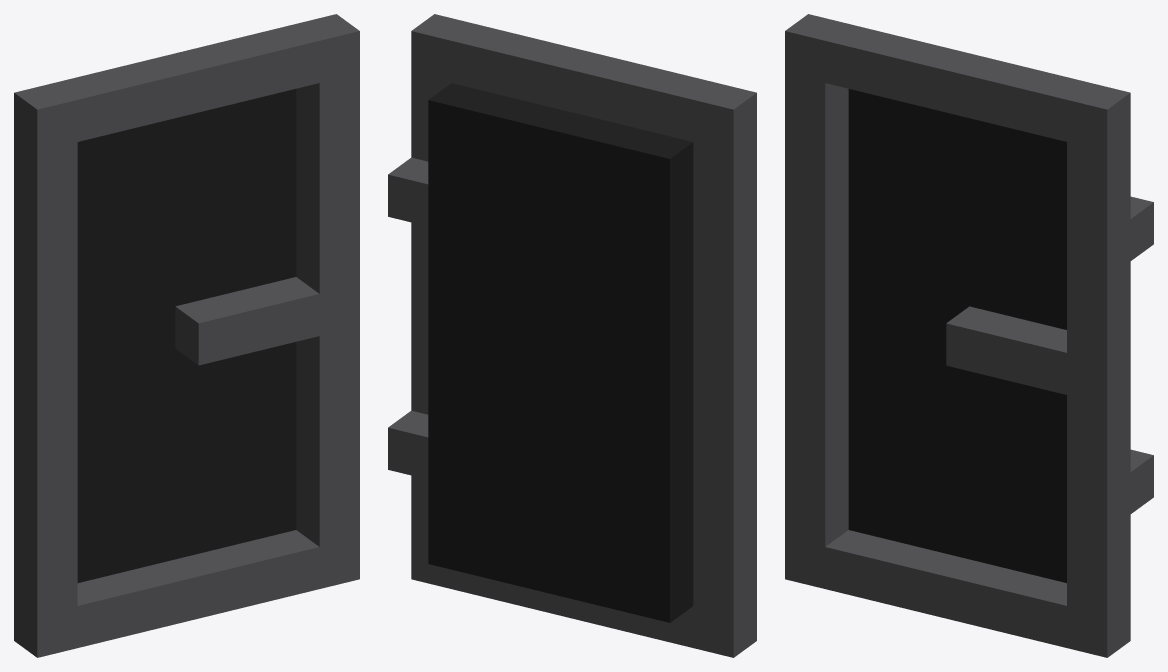
Rendered from safe_02.fbx.
3 renders of one model, left to right at view 1: azimuth 30°, elevation 25°; view 2: azimuth 150°, elevation 25°; view 3: azimuth 330°, elevation 25°, orthographic.
Visible parts, largest first — view 1: safe_02_0; view 2: safe_02_0; view 3: safe_02_0.
Part boxes in pixels (x1,y1,x2,y2): safe_02_0: (14,14,359,657); safe_02_0: (388,14,756,657); safe_02_0: (785,14,1153,657).
Bounding box in the file's own units: 800 × 200 × 1300.
